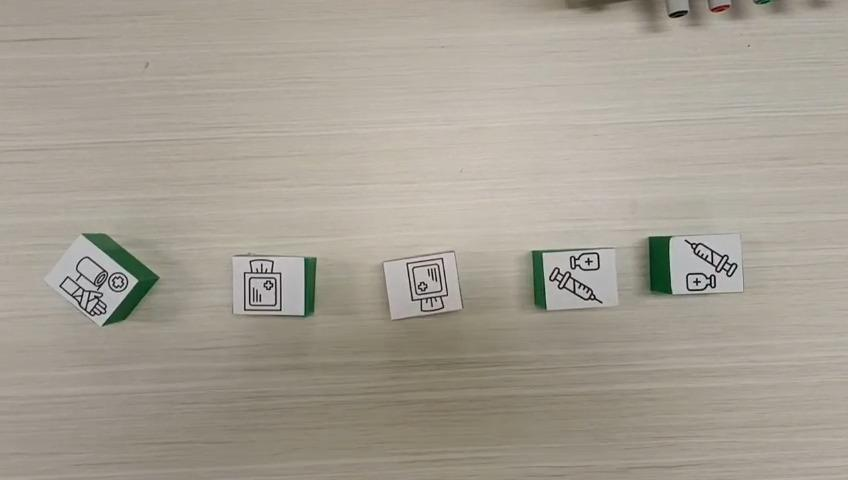Bandages: (39, 231, 158, 326)
Gauze: (380, 249, 465, 320), (230, 253, 316, 316)
antiseptic cream: (647, 232, 745, 295), (531, 247, 621, 310)
